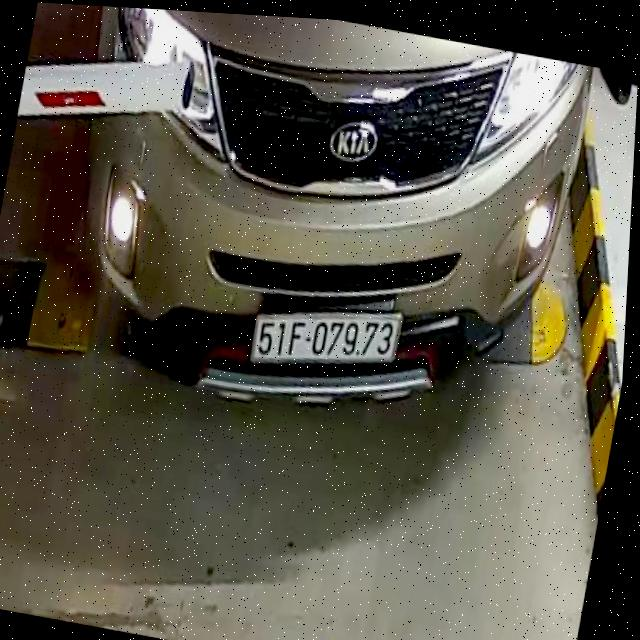car: (28, 3, 609, 461)
plate: (245, 288, 402, 393)
